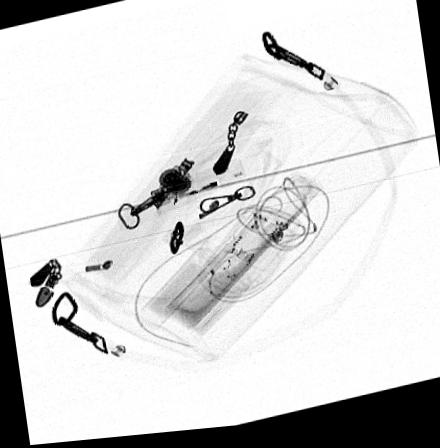Lighter: (149, 160, 246, 218)
